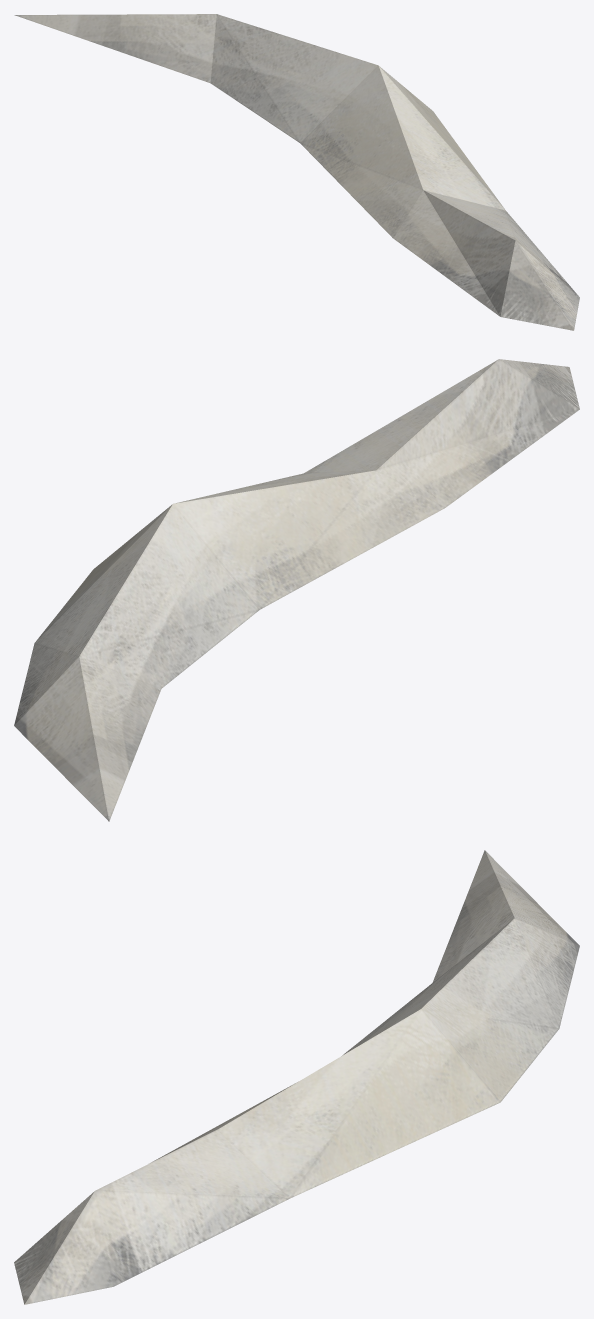
Rendered from cloud6.fbx.
3 views of the same model, one above another, from view 1: azimuth 30°, elevation 25°; view 2: azimuth 150°, elevation 25°; view 3: azimuth 330°, elevation 25° (orthographic). The views are drawn at different scales.
Parts seen in each view (by area): view 1: cloud6; view 2: cloud6; view 3: cloud6.
Boxes of the visible parts, x1,y1,x2,y2 form: cloud6: (14,14,579,330); cloud6: (14,359,579,821); cloud6: (14,850,579,1304).
Size of the model in its own units: 0.0207 by 0.0058 by 0.0768.
